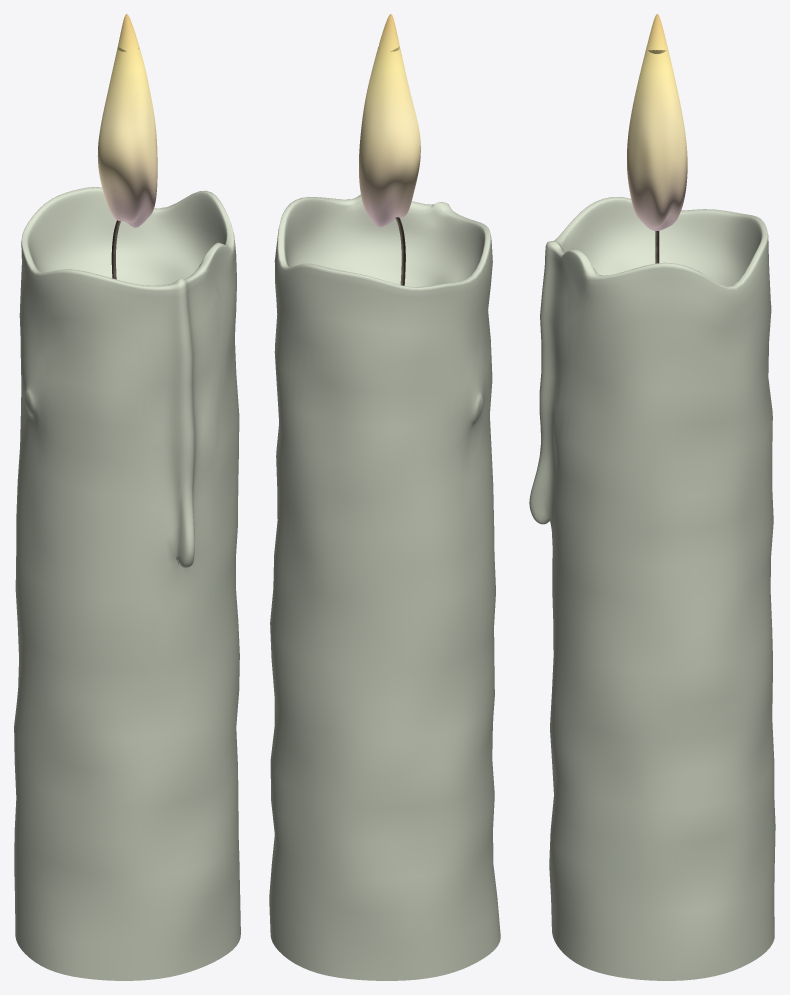
Rendered from Vela.obj.
The picture shows the model from 3 angles, left to right: view 1: azimuth 30°, elevation 25°; view 2: azimuth 150°, elevation 25°; view 3: azimuth 270°, elevation 25°; orthographic projection.
Visible parts, largest first — view 1: Cylinder01, Sphere01; view 2: Cylinder01, Sphere01; view 3: Cylinder01, Sphere01.
Boxes of the visible parts, x1,y1,x2,y2 form: Cylinder01: (14, 187, 240, 980); Sphere01: (97, 14, 157, 227); Cylinder01: (269, 194, 500, 980); Sphere01: (359, 14, 420, 227); Cylinder01: (529, 197, 775, 980); Sphere01: (627, 14, 687, 230).
Size of the model in its own units: 7.16 by 31.87 by 7.75.
